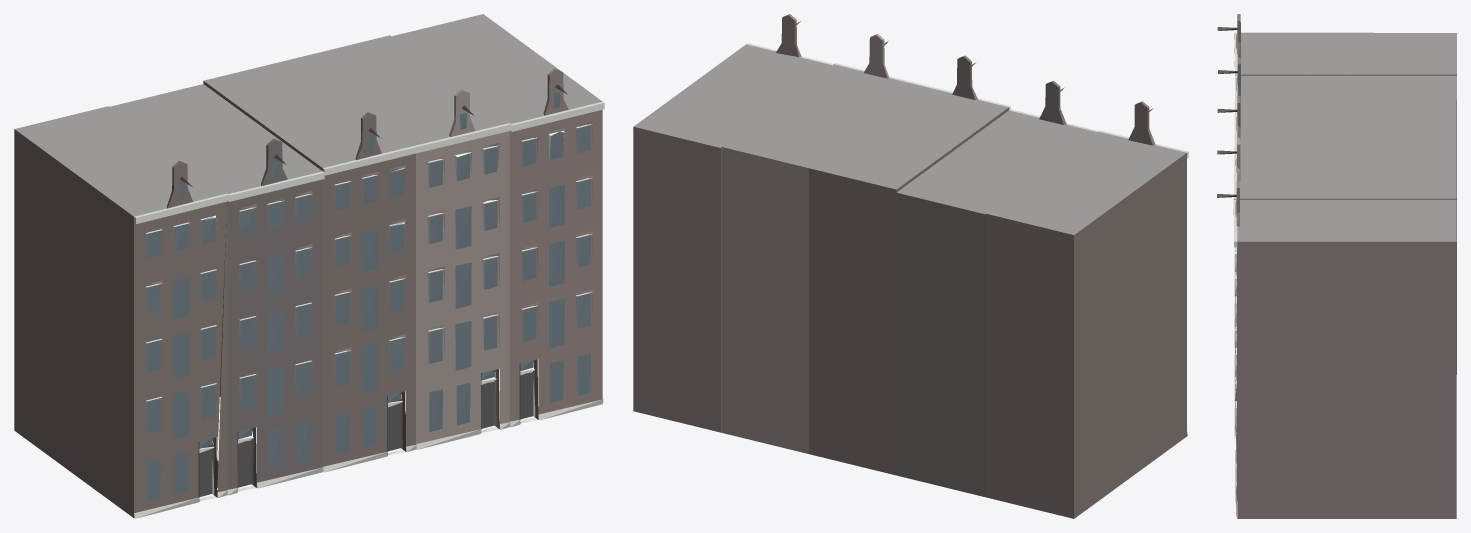
File: chunk-face-hasebroek-1-41-r2.lod2.glb
3 renders of one model, left to right at view 1: azimuth 30°, elevation 25°; view 2: azimuth 150°, elevation 25°; view 3: azimuth 270°, elevation 25°, orthographic. The views are drawn at different scales.
Parts seen in each view (by area): view 1: lod2; view 2: lod2; view 3: lod2.
Boxes of the visible parts, left/top/right/bottom form: lod2: left=14, top=14, right=604, bottom=518; lod2: left=633, top=14, right=1188, bottom=518; lod2: left=1217, top=14, right=1456, bottom=518.
Size of the model in its own units: 27.15 by 19.24 by 13.13.
